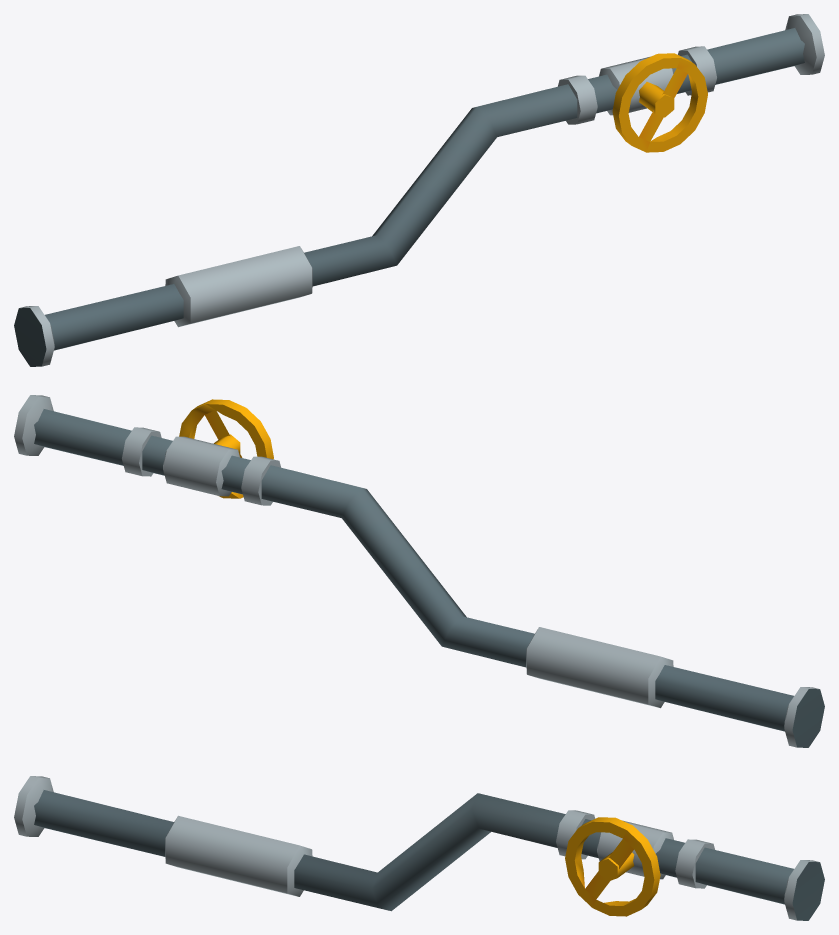
Rendered from Pipe_006.fbx.
3 views of the same model, one above another, from view 1: azimuth 30°, elevation 25°; view 2: azimuth 150°, elevation 25°; view 3: azimuth 330°, elevation 25° (orthographic).
Visible parts, largest first — view 1: Pipe_006; view 2: Pipe_006; view 3: Pipe_006.
Boxes of the visible parts, left/top/right/bottom form: Pipe_006: left=14, top=14, right=824, bottom=366; Pipe_006: left=14, top=395, right=824, bottom=747; Pipe_006: left=14, top=776, right=824, bottom=920.
Bounding box in the file's own units: 352 × 34.98 × 77.99.
